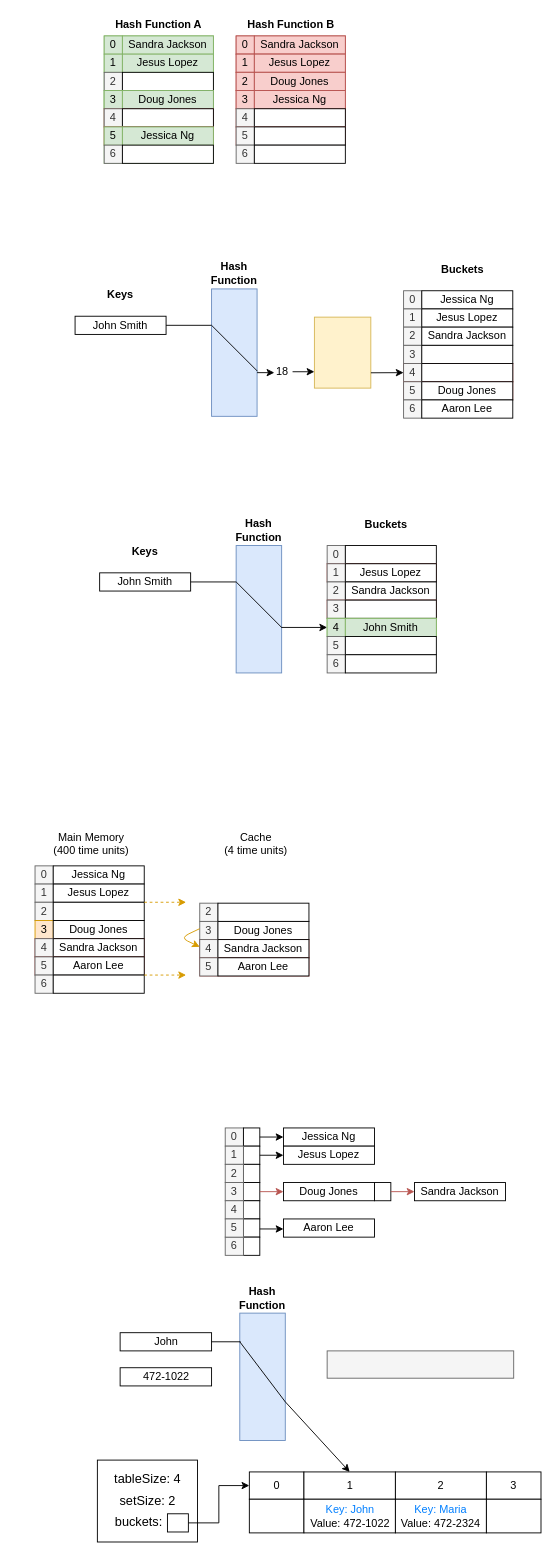
The diagram is 557 pixels wide and 1558 high, and some of its shapes have lost their labels. The shapes that lost their labels are listed below. From the top down, each one's centre as x and y in pixels, then its label:
the point at 342,352: Mod Table Size 18 % 7
the point at 420,1364: map.emplace("John", "472-1022")
